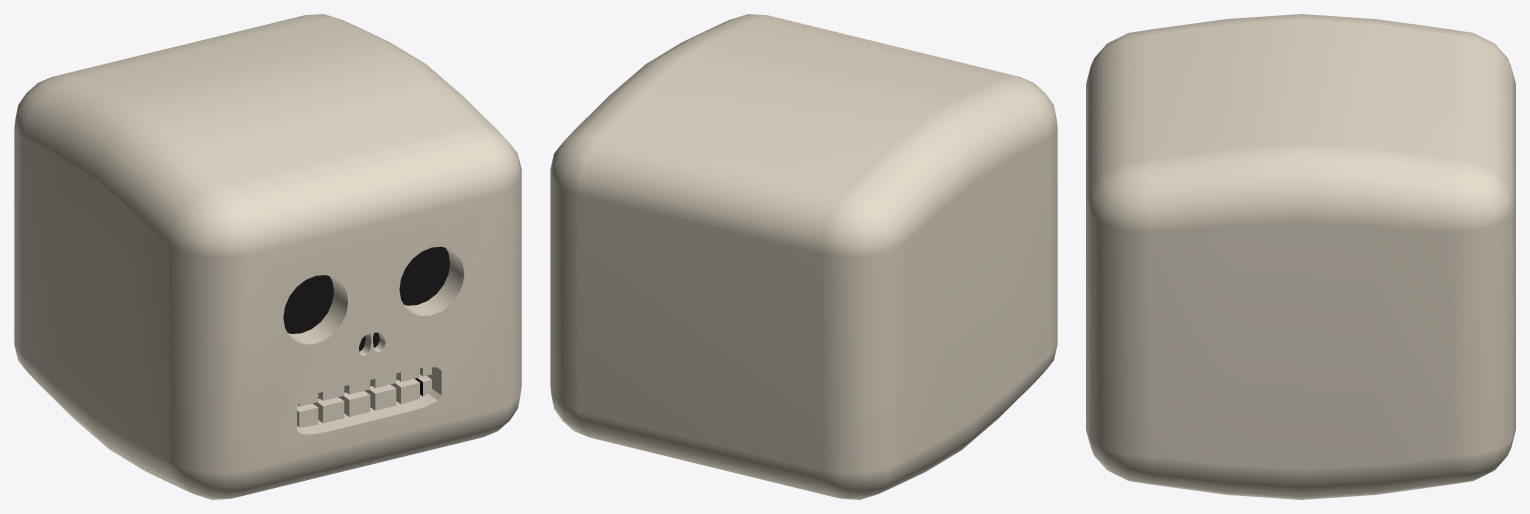
The model's file is Skull.fbx.
3 renders of one model, left to right at view 1: azimuth 30°, elevation 25°; view 2: azimuth 150°, elevation 25°; view 3: azimuth 270°, elevation 25°, orthographic. The views are drawn at different scales.
Visible parts, largest first — view 1: Skull, Teeth; view 2: Skull; view 3: Skull.
Boxes of the visible parts, left/top/right/bottom form: Skull: left=14, top=14, right=521, bottom=499; Teeth: left=297, top=367, right=431, bottom=427; Skull: left=550, top=14, right=1057, bottom=499; Skull: left=1086, top=14, right=1515, bottom=499.
Bounding box in the file's own units: 1.18 × 1.22 × 1.1.
